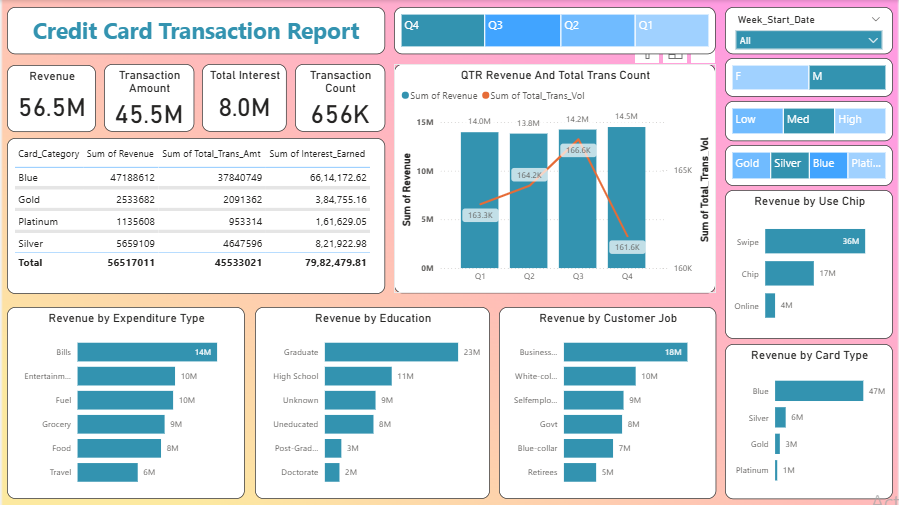

This screenshot's page, from the dashboard's own definition file:
{"tool":"powerbi","page":{"name":"CC Transaction","canvas":[1280,720],"ordinal":1},"visuals":[{"type":"textbox","box":[12.8,9.9,535.7,66.6],"z":0},{"type":"lineStackedColumnComboChart","title":"QTR Revenue And Total Trans Count","fields":{"Y":["Sum(credit_card.Revenue)"],"Category":["credit_card.Qtr"],"Y2":["Sum(credit_card.Total_Trans_Vol)"]},"box":[561.3,90.7,456.4,324.6],"z":1000},{"type":"barChart","title":"Revenue by Expenditure Type","fields":{"Y":["Sum(credit_card.Revenue)"],"Category":["credit_card.Exp Type"]},"box":[12.8,435.1,337.3,272.1],"z":2000},{"type":"barChart","title":"Revenue by Education ","fields":{"Y":["Sum(credit_card.Revenue)"],"Category":["customer.Education_Level"]},"box":[364.3,435.1,333.1,272.1],"z":3000},{"type":"barChart","title":"Revenue by Customer Job ","fields":{"Y":["Sum(credit_card.Revenue)"],"Category":["customer.Customer_Job"]},"box":[710.1,435.1,307.6,272.1],"z":4000},{"type":"barChart","title":"Revenue by Card Type","fields":{"Y":["Sum(credit_card.Revenue)"],"Category":["credit_card.Card_Category"]},"box":[1030.4,487.6,238.1,219.7],"z":5000},{"type":"barChart","title":"Revenue by Use Chip","fields":{"Y":["Sum(credit_card.Revenue)"],"Category":["credit_card.Use Chip"]},"box":[1030.4,269.3,238.1,211.2],"z":6000},{"type":"tableEx","fields":{"Values":["credit_card.Card_Category","Sum(credit_card.Revenue)","Sum(credit_card.Total_Trans_Amt)","Sum(credit_card.Interest_Earned)"]},"box":[12.8,195.6,535.7,221.1],"z":7000},{"type":"card","title":"Revenue","fields":{"Values":["Sum(credit_card.Revenue)"]},"box":[12.8,92.1,126.1,95],"z":8000},{"type":"card","title":"Transaction Amount","fields":{"Values":["Sum(credit_card.Total_Trans_Amt)"]},"box":[150.2,90.7,127.6,96.4],"z":9000},{"type":"card","title":"Total Interest","fields":{"Values":["Sum(credit_card.Interest_Earned)"]},"box":[289.1,90.7,120.5,96.4],"z":10000},{"type":"card","title":"Transaction Count","fields":{"Values":["Sum(credit_card.Total_Trans_Vol)"]},"box":[420.9,90.7,127.6,96.4],"z":11000},{"type":"slicer","fields":{"Values":["credit_card.Week_Start_Date"]},"box":[1030.4,9.9,238.1,66.6],"z":12000},{"type":"treemap","fields":{"Group":["customer.Gender"],"Values":["Avg(credit_card.Client_Num)"]},"box":[1030.4,82.2,238.1,55.3],"z":13000},{"type":"treemap","fields":{"Group":["credit_card.Qtr"],"Values":["Avg(credit_card.Client_Num)"]},"box":[561.3,9.9,456.4,66.6],"z":14000},{"type":"treemap","fields":{"Group":["credit_card.Card_Category"],"Values":["Avg(credit_card.Client_Num)"]},"box":[1030.4,205.5,238.1,58.1],"z":15000},{"type":"treemap","fields":{"Group":["customer.IncomeGroup"],"Values":["Avg(credit_card.Client_Num)"]},"box":[1030.4,143.1,238.1,56.7],"z":16000}]}

Visuals, with their boxes in screenshot pixels (x1, y1, x2, y2), scaled from the page's 1280x720 canvas onto the 899x505 screenshot:
textbox: crop(9, 7, 385, 54)
"QTR Revenue And Total Trans Count" lineStackedColumnComboChart: crop(394, 64, 715, 291)
"Revenue by Expenditure Type" barChart: crop(9, 305, 246, 496)
"Revenue by Education " barChart: crop(256, 305, 490, 496)
"Revenue by Customer Job " barChart: crop(499, 305, 715, 496)
"Revenue by Card Type" barChart: crop(724, 342, 891, 496)
"Revenue by Use Chip" barChart: crop(724, 189, 891, 337)
tableEx - credit_card.Card_Category x Sum(credit_card.Revenue): crop(9, 137, 385, 292)
"Revenue" card: crop(9, 65, 98, 131)
"Transaction Amount" card: crop(105, 64, 195, 131)
"Total Interest" card: crop(203, 64, 288, 131)
"Transaction Count" card: crop(296, 64, 385, 131)
slicer - credit_card.Week_Start_Date: crop(724, 7, 891, 54)
treemap - customer.Gender x Avg(credit_card.Client_Num): crop(724, 58, 891, 96)
treemap - credit_card.Qtr x Avg(credit_card.Client_Num): crop(394, 7, 715, 54)
treemap - credit_card.Card_Category x Avg(credit_card.Client_Num): crop(724, 144, 891, 185)
treemap - customer.IncomeGroup x Avg(credit_card.Client_Num): crop(724, 100, 891, 140)
